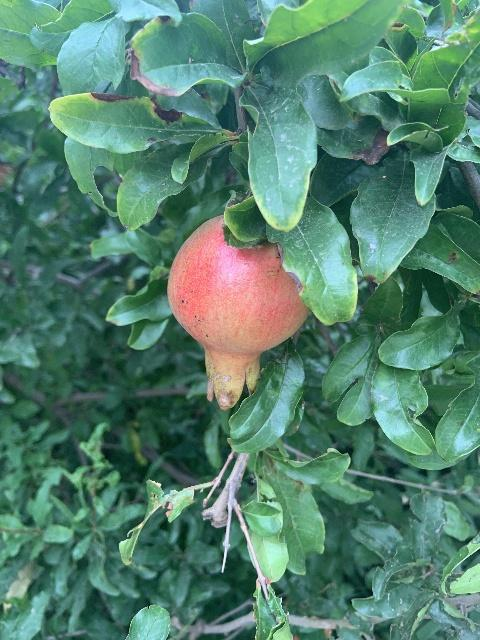ripe: (166, 215, 309, 410)
